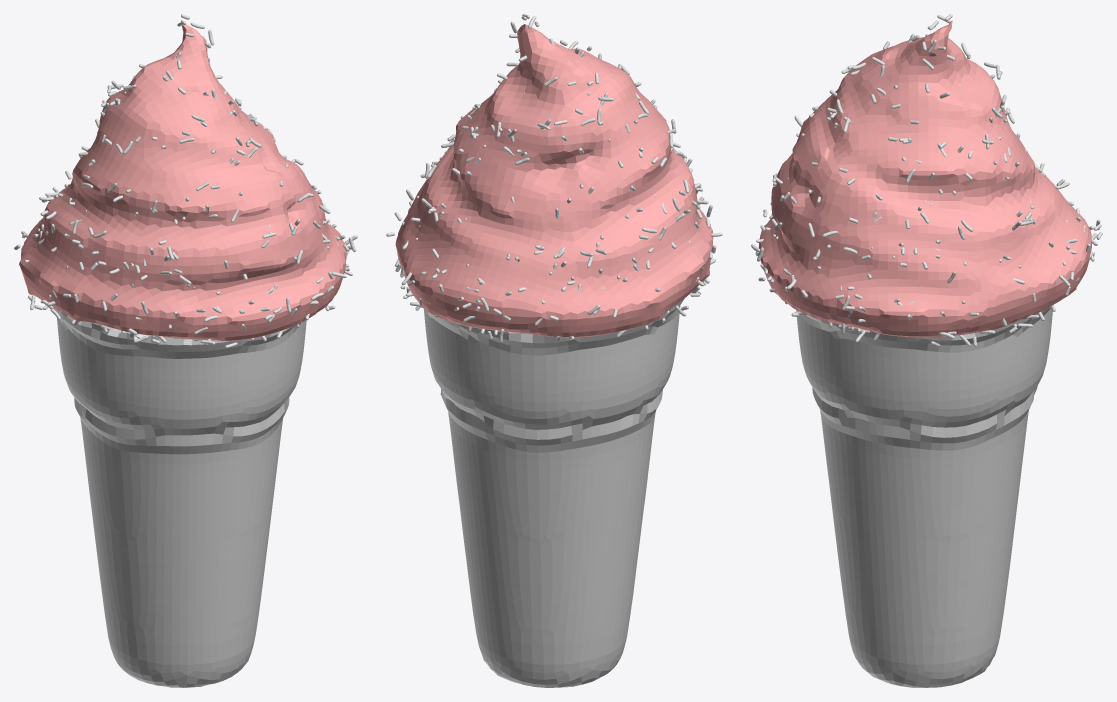
File: DondurmaLowpoly.fbx
The picture shows the model from 3 angles, left to right: view 1: azimuth 30°, elevation 25°; view 2: azimuth 150°, elevation 25°; view 3: azimuth 270°, elevation 25°; orthographic projection. The views are drawn at different scales.
Visible parts, largest first — view 1: Cylinder, Circle; view 2: Cylinder, Circle; view 3: Circle, Cylinder.
Part boxes in pixels (x1,y1,x2,y2): Cylinder: (53, 308, 306, 687); Circle: (19, 20, 346, 340); Cylinder: (423, 298, 684, 687); Circle: (395, 24, 713, 337); Circle: (758, 20, 1091, 337); Cylinder: (796, 305, 1053, 687).
Bounding box in the file's own units: 462 × 984 × 474.
